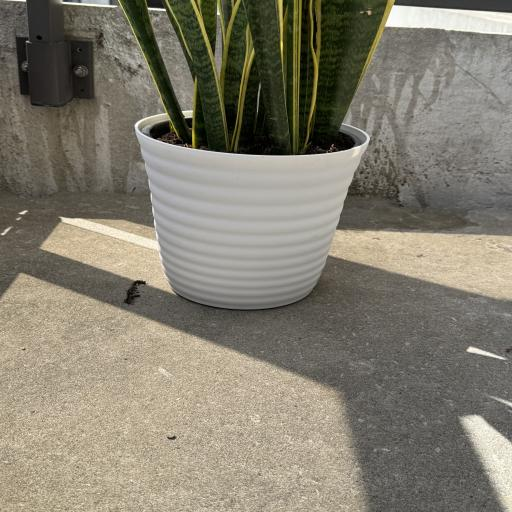Plant Pot: (136, 108, 371, 312)
